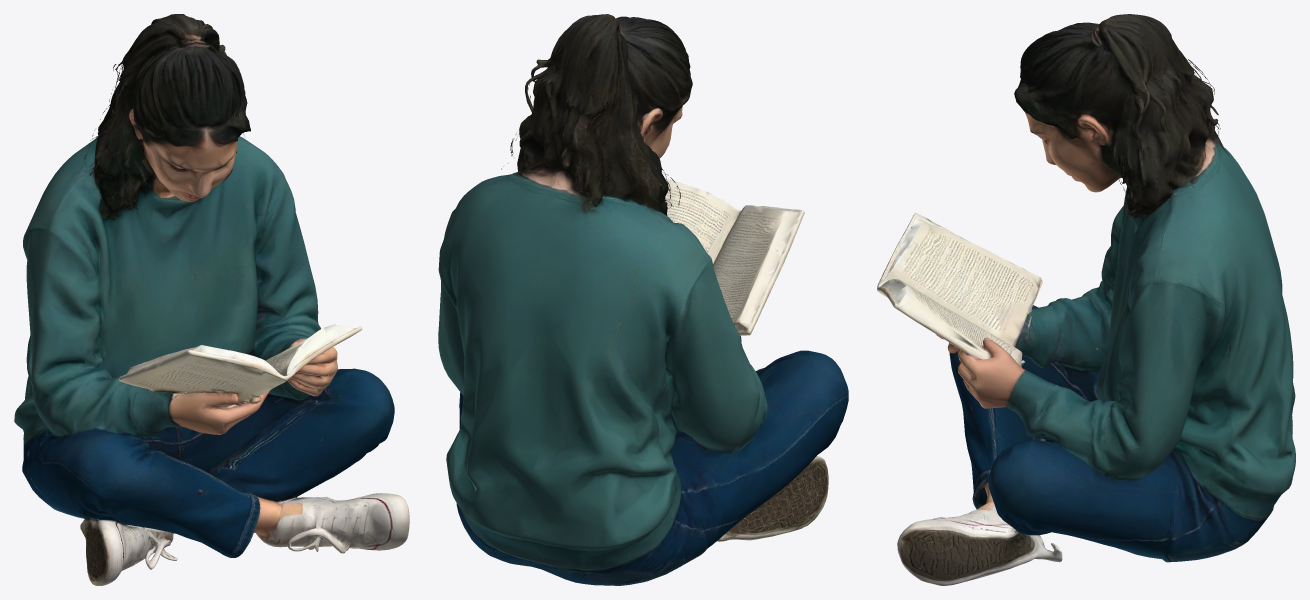
The model's file is quiet-reading.glb.
3 renders of one model, left to right at view 1: azimuth 30°, elevation 25°; view 2: azimuth 150°, elevation 25°; view 3: azimuth 270°, elevation 25°, orthographic. The views are drawn at different scales.
Parts seen in each view (by area): view 1: mesh_0; view 2: mesh_0; view 3: mesh_0.
Boxes of the visible parts, <box> form: mesh_0: <box>14,14,409,585</box>; mesh_0: <box>438,14,848,585</box>; mesh_0: <box>877,14,1295,585</box>.
Size of the model in its own units: 1.35 by 1.9 by 1.4.
1 material, 1 textured.
